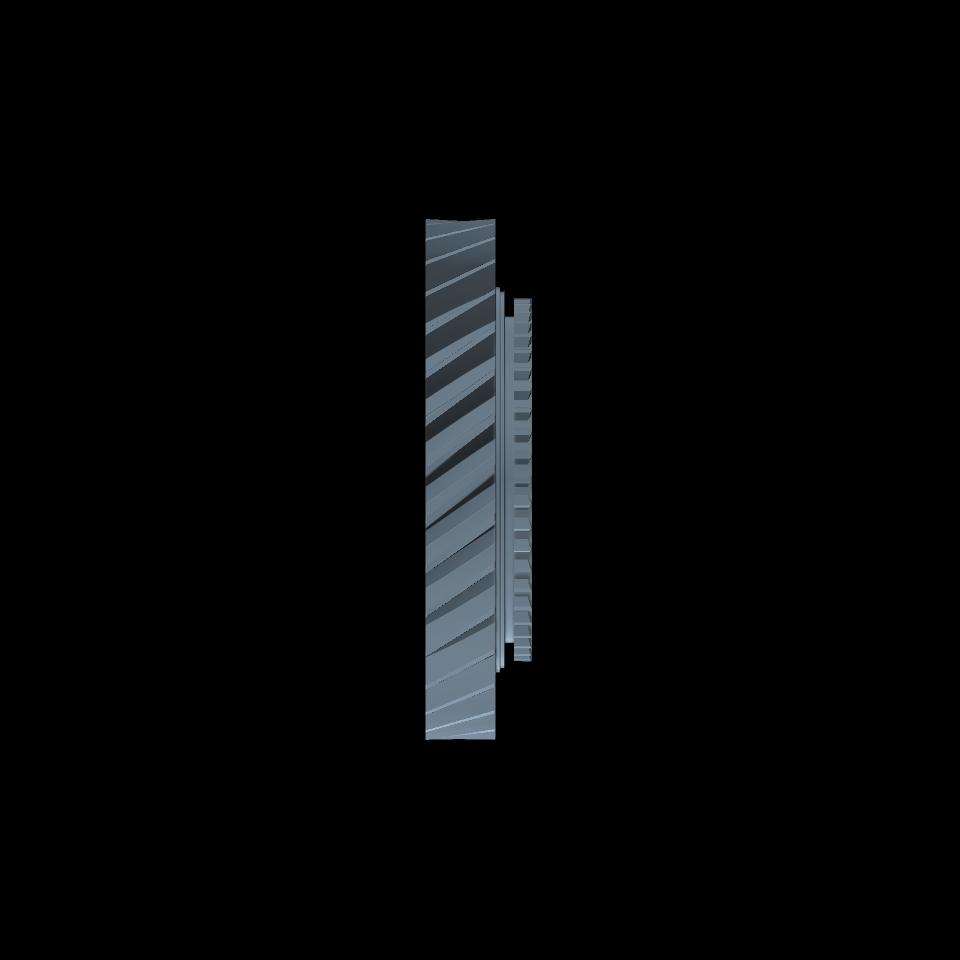Helical: (426, 218, 493, 739)
Straight: (514, 297, 527, 659)
